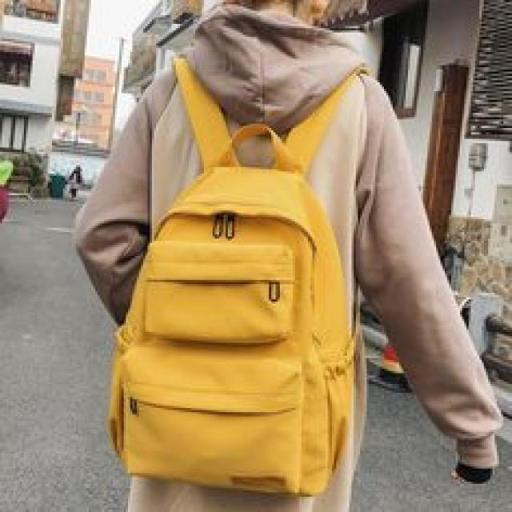bag: (88, 75, 398, 507)
